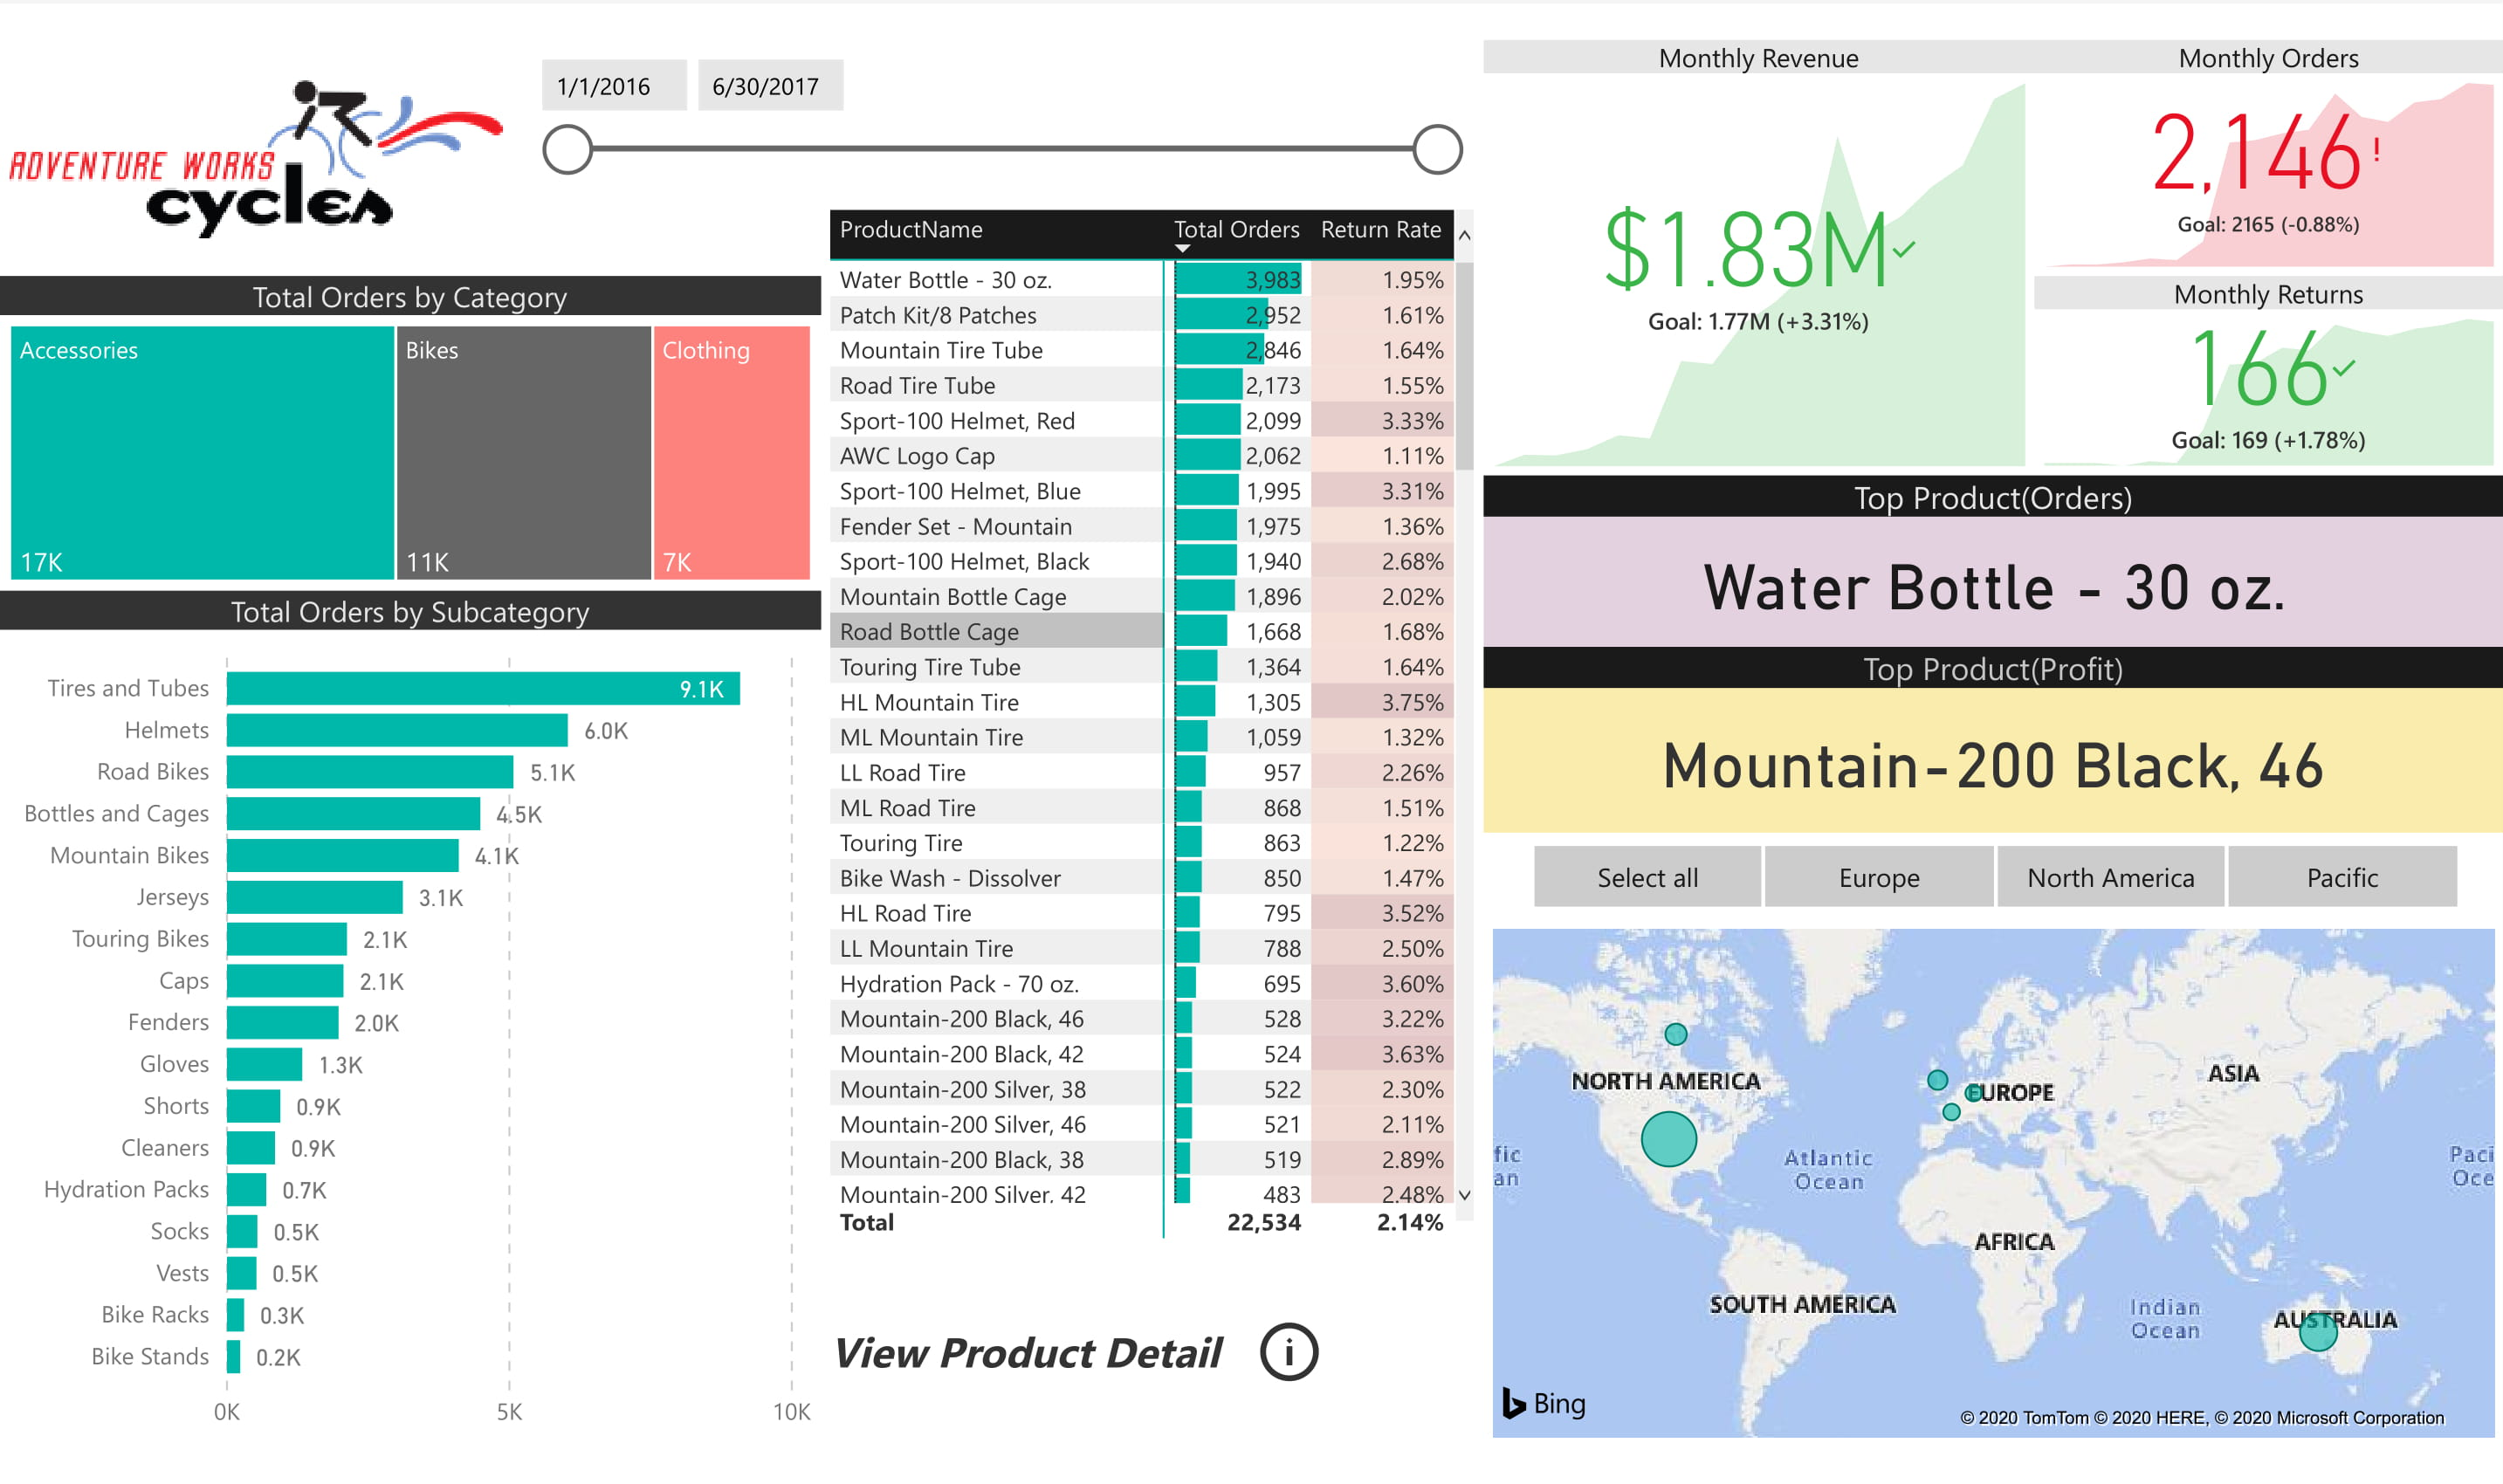

What the dashboard file says about the page in this screenshot:
{"tool":"powerbi","page":{"name":"Exec Summary","canvas":[1280,720],"ordinal":0},"visuals":[{"type":"image","box":[0,0,264.7,120.7],"z":0},{"type":"barChart","title":"Total Orders by Subcategory","fields":{"Y":["AW_Sales.Total Orders"],"Category":["AW_Product_Subcategory_Lookup.SubcategoryName"]},"box":[0,281.7,419.6,438.3],"z":1000},{"type":"treemap","title":"Total Orders by Category","fields":{"Group":["AW_Product_Category_Lookup.CategoryName","AW_Product_Subcategory_Lookup.SubcategoryName"],"Values":["AW_Sales.Total Orders"]},"box":[0,120.7,419.6,161],"z":2000},{"type":"pivotTable","fields":{"Values":["AW_Sales.Total Orders","AW_Returns.Return Rate"],"Rows":["AW_Product_Category_Lookup.CategoryName","AW_Product_Subcategory_Lookup.SubcategoryName","AW_Product_Lookup.ProductName"]},"box":[419.6,81.9,339.2,536],"z":3000},{"type":"slicer","fields":{"Values":["AW_Calendar_Lookup.Date"]},"box":[264.4,0,494.4,81.9],"z":4000},{"type":"kpi","title":"Monthly Revenue","fields":{"Indicator":["AW_Sales.Total Revenue"],"TrendLine":["AW_Calendar_Lookup.Start of Month"],"Goal":["AW_Sales.Prev Month Revenue"]},"box":[758.8,0,281.7,222.8],"z":5000},{"type":"kpi","title":"Monthly Orders","fields":{"Indicator":["AW_Sales.Total Orders"],"Goal":["AW_Sales.Prev Month Orders"],"TrendLine":["AW_Calendar_Lookup.Start of Month"]},"box":[1040.5,0,240,120.7],"z":6000},{"type":"kpi","title":"Monthly Returns","fields":{"TrendLine":["AW_Calendar_Lookup.Start of Month"],"Goal":["AW_Returns.Prev Month Returns"],"Indicator":["AW_Returns.Total Returns"]},"box":[1040.5,120.7,240,102],"z":7000},{"type":"card","title":"Top Product(Orders)","fields":{"Values":["Min(AW_Product_Lookup.ProductName)"]},"box":[758.8,222.8,521.7,87.7],"z":8000},{"type":"card","title":"Top Product(Profit)","fields":{"Values":["Min(AW_Product_Lookup.ProductName)"]},"box":[758.8,310.4,521.7,94.9],"z":9000},{"type":"map","fields":{"Category":["AW_Territories_Lookup.Country"],"Size":["AW_Sales.Total Orders"]},"box":[758.8,449.8,521.7,270.2],"z":10000},{"type":"slicer","fields":{"Values":["AW_Territories_Lookup.Continent"]},"box":[758.8,405.3,521.7,44.6],"z":11000},{"type":"textbox","box":[419.6,651,339.2,69],"z":12000},{"type":"actionButton","box":[639.5,651,100.6,40.2],"z":13000}]}

Visuals, with their boxes on the page's 1280x720 design canvas (x1, y1, x2, y2). These are canvas units, not pixel positions in the 2503x1484 screenshot, which may show the page scaled, cropped or inside an application window:
image: (x1=0, y1=0, x2=265, y2=121)
"Total Orders by Subcategory" barChart: (x1=0, y1=282, x2=420, y2=720)
"Total Orders by Category" treemap: (x1=0, y1=121, x2=420, y2=282)
pivotTable - AW_Sales.Total Orders x AW_Returns.Return Rate: (x1=420, y1=82, x2=759, y2=618)
slicer - AW_Calendar_Lookup.Date: (x1=264, y1=0, x2=759, y2=82)
"Monthly Revenue" kpi: (x1=759, y1=0, x2=1040, y2=223)
"Monthly Orders" kpi: (x1=1040, y1=0, x2=1280, y2=121)
"Monthly Returns" kpi: (x1=1040, y1=121, x2=1280, y2=223)
"Top Product(Orders)" card: (x1=759, y1=223, x2=1280, y2=310)
"Top Product(Profit)" card: (x1=759, y1=310, x2=1280, y2=405)
map - AW_Territories_Lookup.Country x AW_Sales.Total Orders: (x1=759, y1=450, x2=1280, y2=720)
slicer - AW_Territories_Lookup.Continent: (x1=759, y1=405, x2=1280, y2=450)
textbox: (x1=420, y1=651, x2=759, y2=720)
actionButton: (x1=640, y1=651, x2=740, y2=691)
